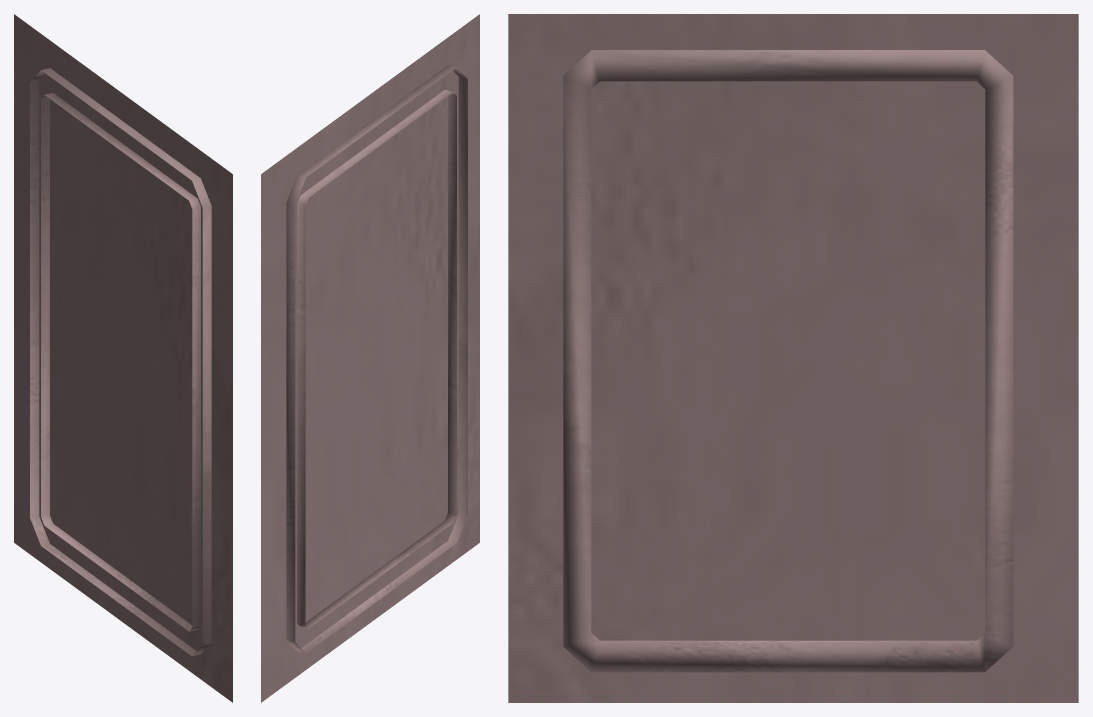
File: whall1.fbx
3 views of the same model, side by side, from view 1: azimuth 30°, elevation 25°; view 2: azimuth 150°, elevation 25°; view 3: azimuth 270°, elevation 25° (orthographic). The views are drawn at different scales.
Parts seen in each view (by area): view 1: Cube, Cube.001; view 2: Cube, Cube.001; view 3: Cube, Cube.001.
Part boxes in pixels (x1,y1,x2,y2): Cube: [14, 14, 232, 702]; Cube.001: [30, 68, 211, 656]; Cube: [261, 14, 479, 702]; Cube.001: [286, 65, 467, 653]; Cube: [508, 14, 1078, 702]; Cube.001: [563, 50, 1013, 672].
Bounding box in the file's own units: 9.17 × 360 × 270.
Materials: 1 (1 with a texture image).
